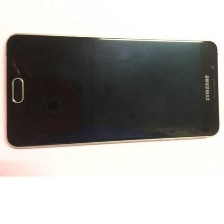phone: (1, 29, 223, 154)
